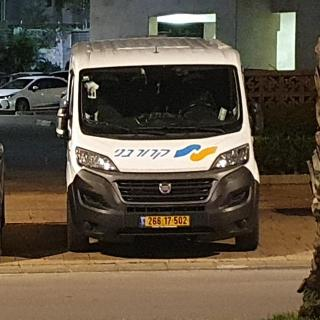LicensePlate: (145, 217, 189, 226)
